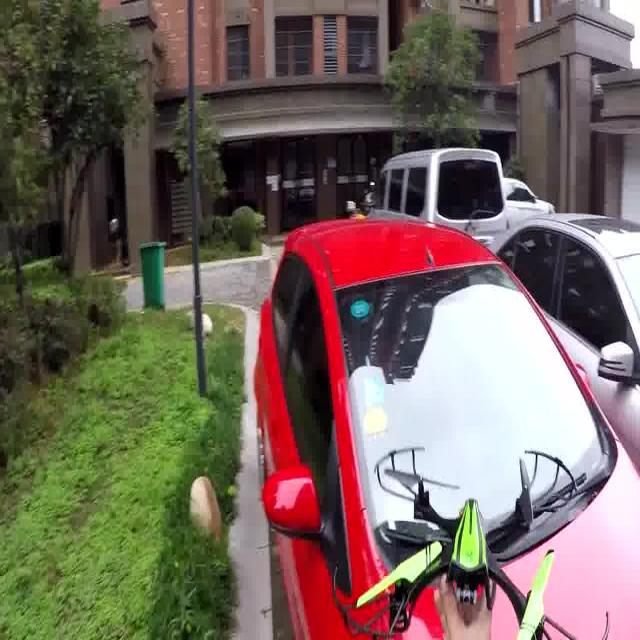drones: (329, 441, 613, 640)
